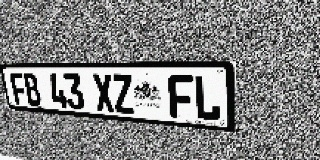3: (63, 73, 85, 110)
4: (47, 73, 69, 109)
B: (22, 73, 42, 106)
F: (168, 75, 194, 119), (9, 73, 29, 105)
L: (193, 75, 221, 122)
X: (92, 74, 115, 113)
Z: (111, 74, 135, 114)
